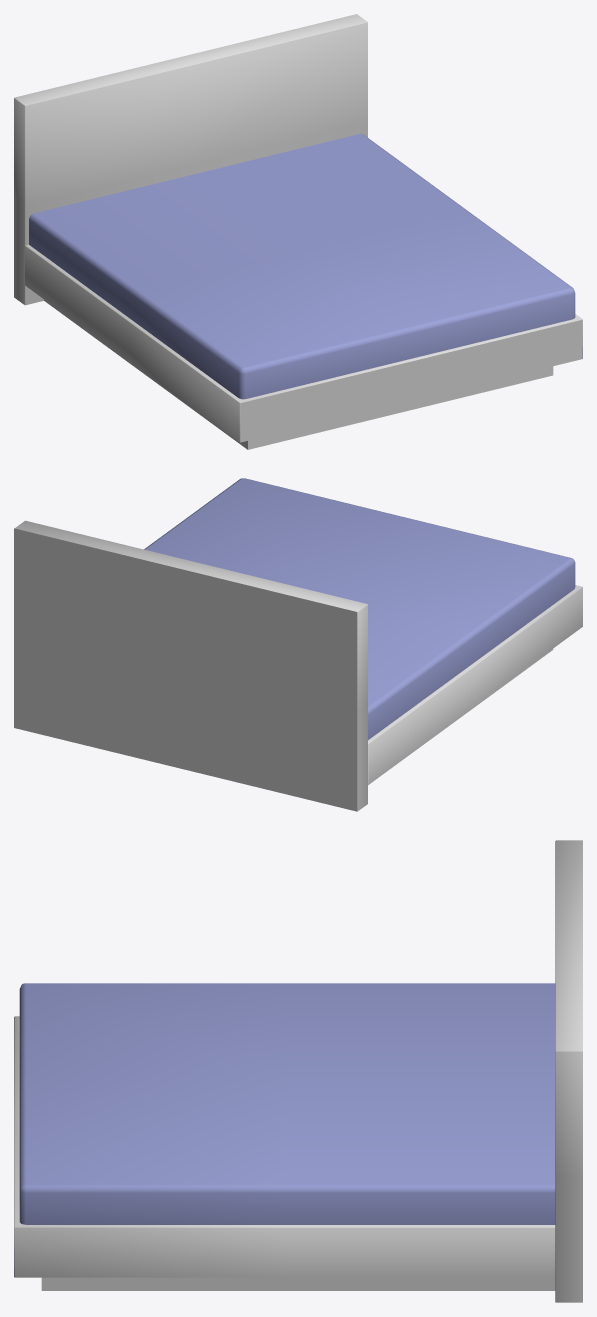
Rendered from MZCBD05C.FBX.
3 views of the same model, one above another, from view 1: azimuth 30°, elevation 25°; view 2: azimuth 150°, elevation 25°; view 3: azimuth 270°, elevation 25° (orthographic). The views are drawn at different scales.
Visible parts, largest first — view 1: MZCBD05C; view 2: MZCBD05C; view 3: MZCBD05C.
Boxes of the visible parts, x1,y1,x2,y2 form: MZCBD05C: (14, 14, 582, 449); MZCBD05C: (14, 478, 582, 811); MZCBD05C: (14, 840, 582, 1302).
Size of the model in its own units: 180 by 205 by 100.
